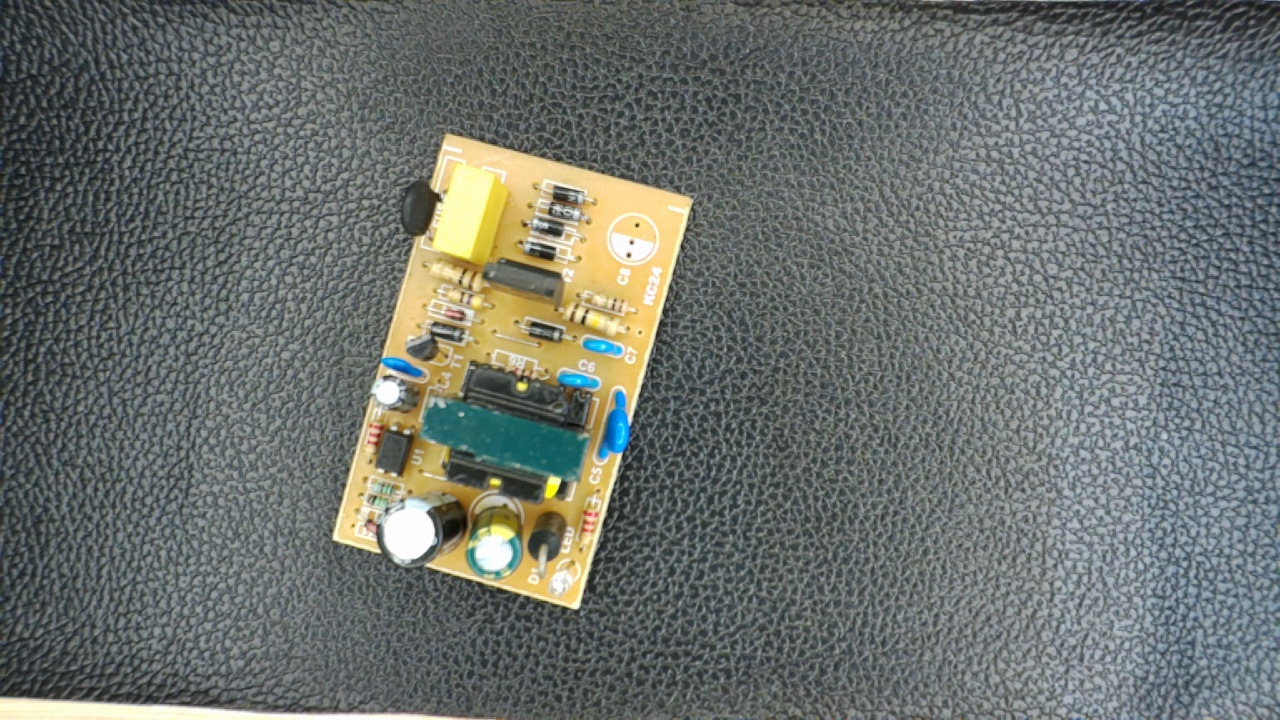fuse: (398, 174, 443, 245)
mov: (596, 383, 638, 471)
optocoupler: (374, 420, 420, 479)
